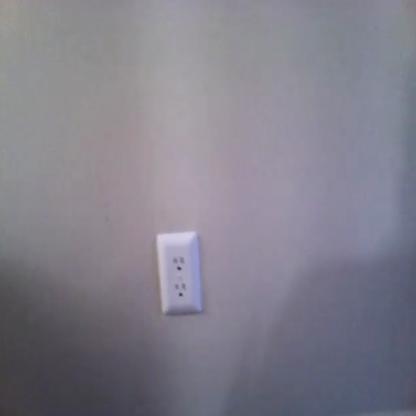OUTLET: (156, 234, 203, 314)
